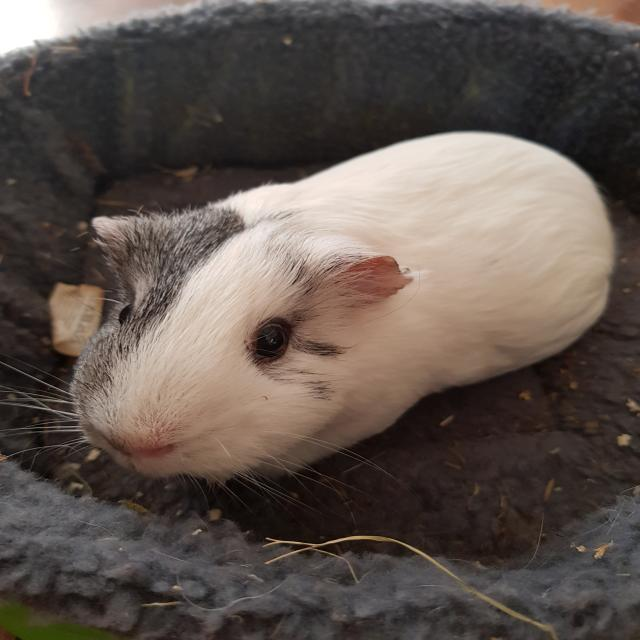guinea pig: (62, 126, 615, 494)
